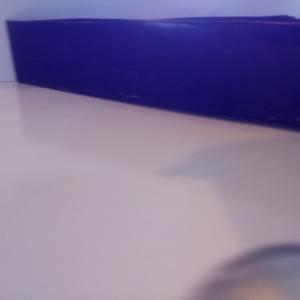zone: (6, 14, 300, 130)
